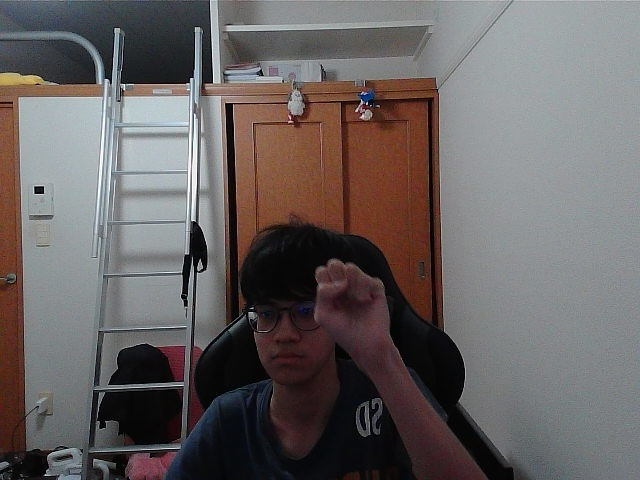closed_palm: (321, 265, 376, 339)
